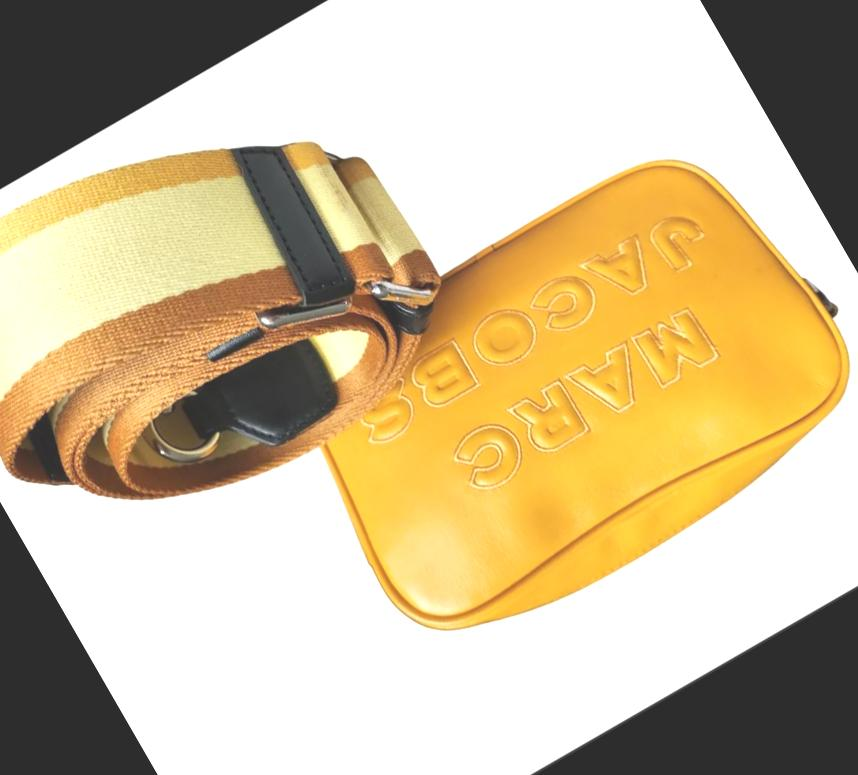MARC-JACOBS: (343, 200, 761, 530)
